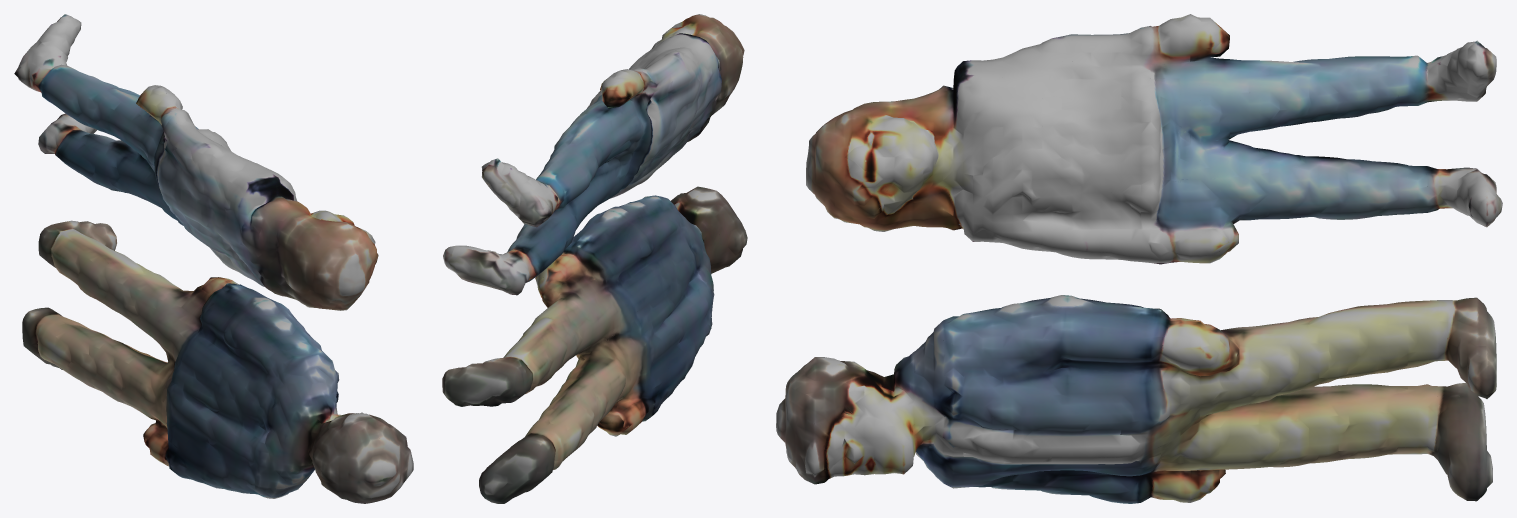
File: bystanders-couple-baked.glb
3 renders of one model, left to right at view 1: azimuth 30°, elevation 25°; view 2: azimuth 150°, elevation 25°; view 3: azimuth 270°, elevation 25°, orthographic. The views are drawn at different scales.
Visible parts, largest first — view 1: mesh.glb; view 2: mesh.glb; view 3: mesh.glb.
Boxes of the visible parts, <box> form: mesh.glb: <box>14,14,413,503</box>; mesh.glb: <box>442,14,747,503</box>; mesh.glb: <box>776,14,1502,503</box>.
Bounding box in the file's own units: 0.2965 × 0.7321 × 1.01.
Materials: 1 (1 with a texture image).
